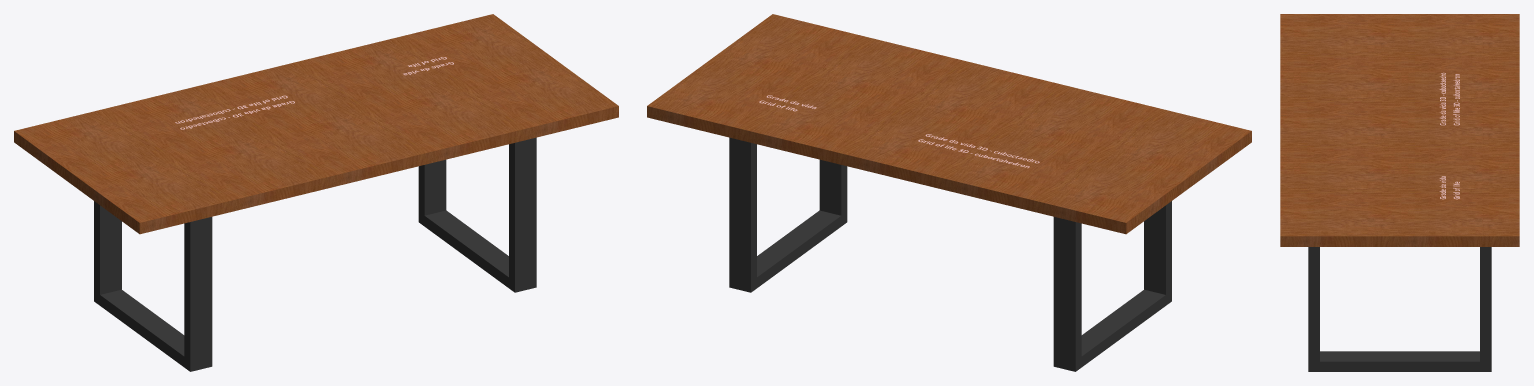
File: geomSagrada2gr.glb
3 views of the same model, side by side, from view 1: azimuth 30°, elevation 25°; view 2: azimuth 150°, elevation 25°; view 3: azimuth 270°, elevation 25° (orthographic). The views are drawn at different scales.
Parts seen in each view (by area): view 1: object 1, Composant#1 (×2), Grade da vida 3D#1; view 2: object 1, Composant#1 (×2), Grade da vida 3D#1; view 3: object 1, Composant#1, Grade da vida 3D#1.
Boxes of the visible parts, x1,y1,x2,y2 form: object 1: (14, 14, 618, 234); Composant#1 (×2): (94, 137, 536, 371); Grade da vida 3D#1: (175, 95, 294, 129); object 1: (647, 14, 1251, 234); Composant#1 (×2): (729, 137, 1171, 371); Grade da vida 3D#1: (918, 134, 1039, 168); object 1: (1280, 14, 1519, 246); Composant#1: (1308, 247, 1491, 371); Grade da vida 3D#1: (1439, 72, 1459, 125).
Bounding box in the file's own units: 2.2 × 0.771 × 1.
Materials: 3 (1 with a texture image).
